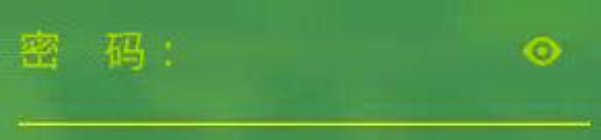EditText: (1, 1, 600, 139)
